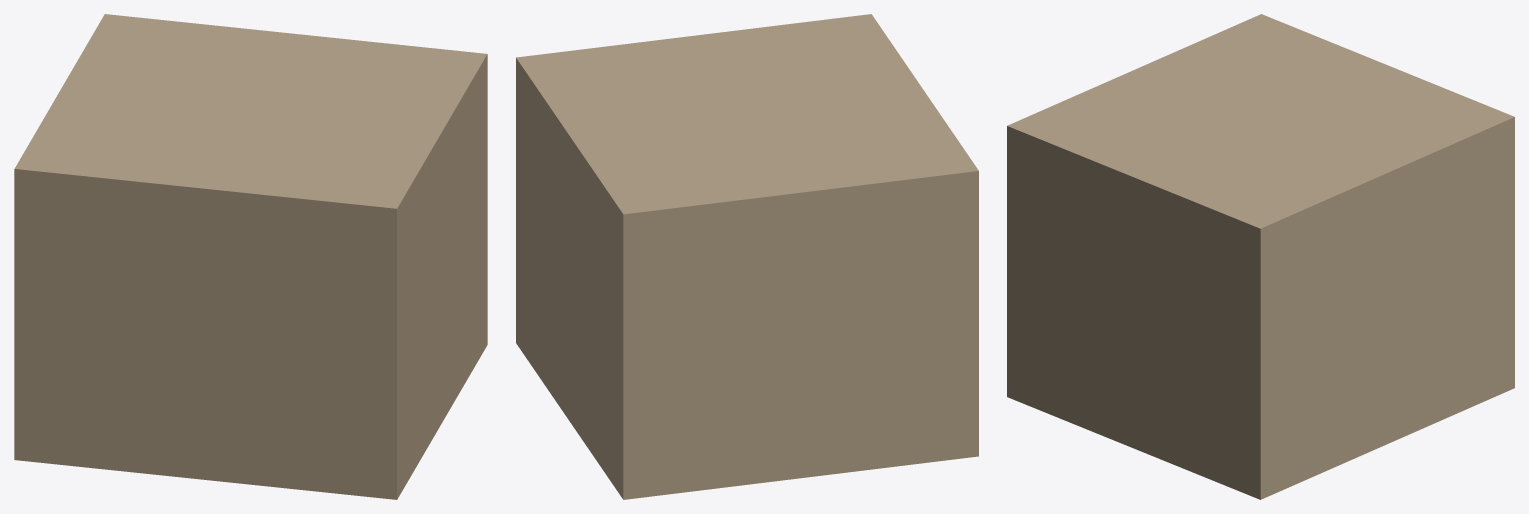
Rendered from bld_99867756.dae.
3 renders of one model, left to right at view 1: azimuth 30°, elevation 25°; view 2: azimuth 150°, elevation 25°; view 3: azimuth 270°, elevation 25°, orthographic. The views are drawn at different scales.
Visible parts, largest first — view 1: bld_99867756; view 2: bld_99867756; view 3: bld_99867756.
Boxes of the visible parts, <box> form: bld_99867756: <box>14,14,487,499</box>; bld_99867756: <box>516,14,978,499</box>; bld_99867756: <box>1007,14,1514,499</box>.
Size of the model in its own units: 13.59 by 13.58 by 8.
